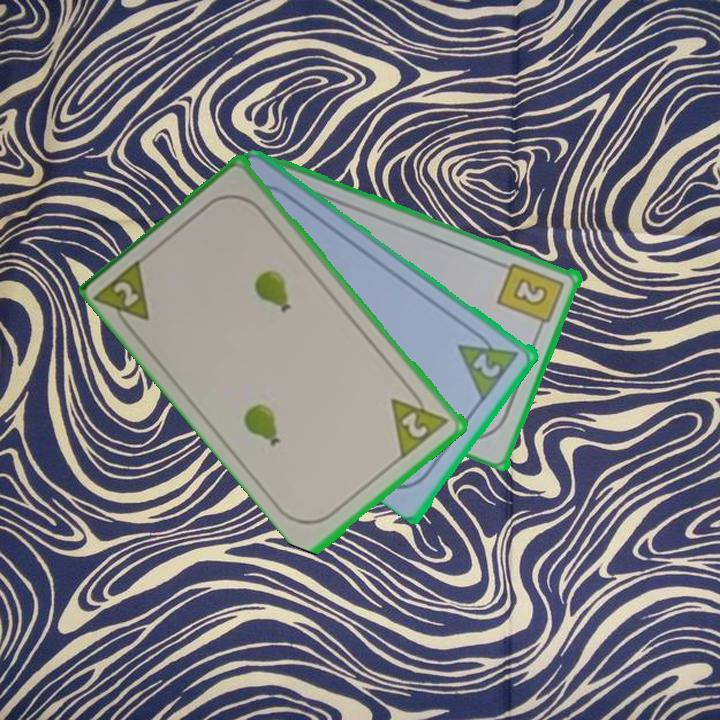2b: (495, 259, 568, 334)
2p: (454, 324, 523, 403), (93, 253, 154, 338), (387, 381, 452, 460)
